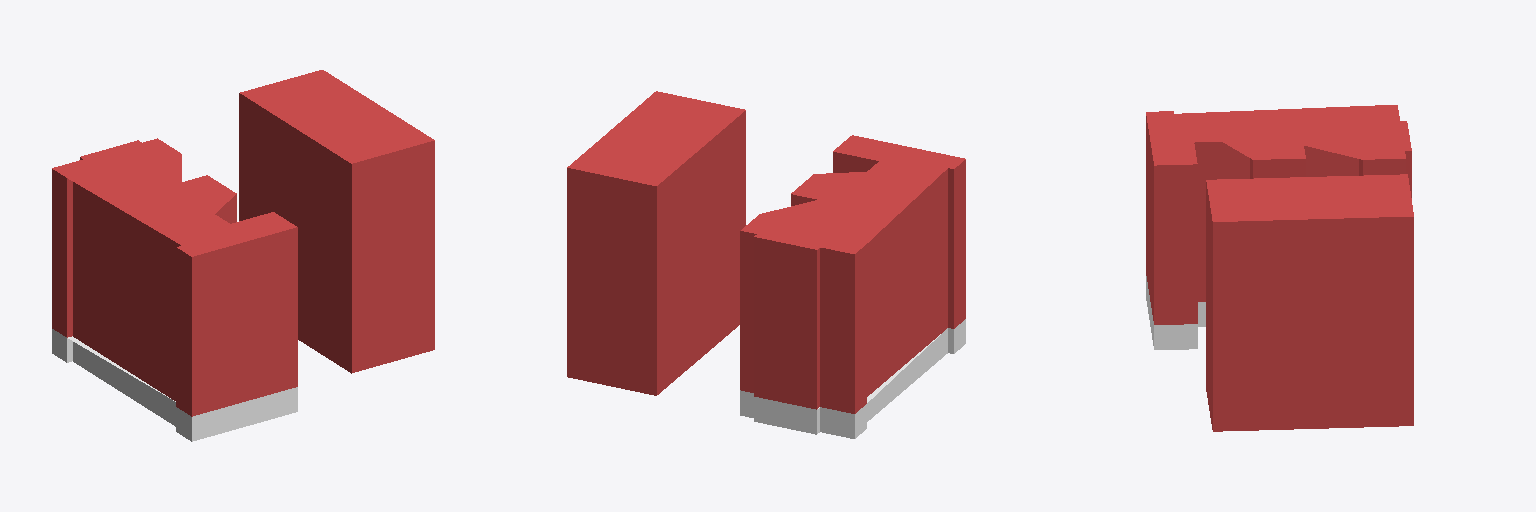
File: house04.obj
3 renders of one model, left to right at view 1: azimuth 30°, elevation 25°; view 2: azimuth 150°, elevation 25°; view 3: azimuth 270°, elevation 25°, orthographic.
Visible parts, largest first — view 1: Line1707, Line1708, Line3402; view 2: Line1707, Line1708, Line3402; view 3: Line1708, Line1707, Line3402.
Part boxes in pixels (x1,y1,x2,y2): Line1707: (52, 138, 297, 416); Line1708: (239, 70, 434, 373); Line3402: (52, 329, 297, 441); Line1707: (740, 135, 965, 413); Line1708: (567, 91, 745, 395); Line3402: (740, 319, 965, 438); Line1708: (1206, 174, 1413, 431); Line1707: (1146, 105, 1411, 324); Line3402: (1146, 276, 1205, 349).
Size of the model in its own units: 2861 by 1969 by 2284.